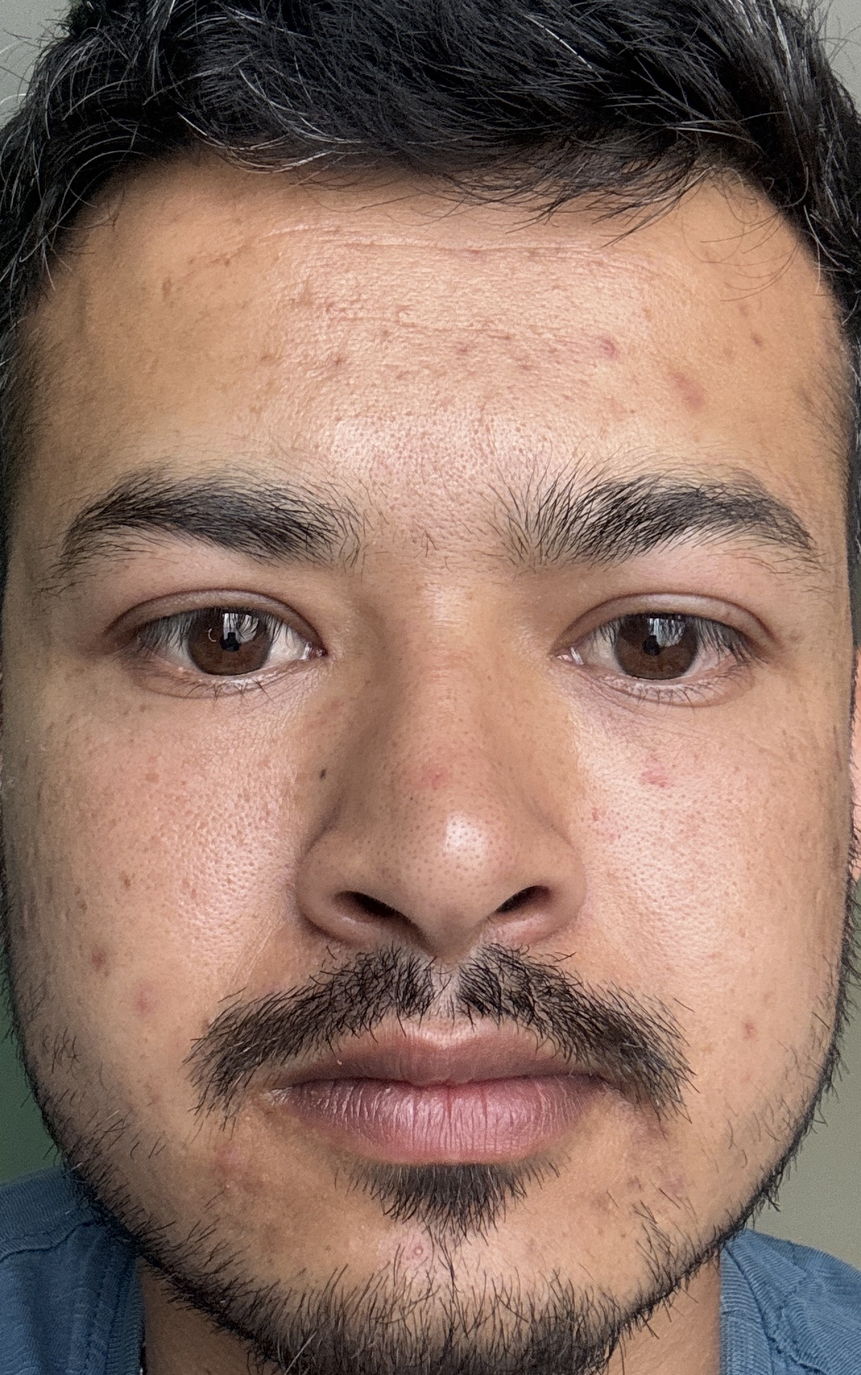closed_comedone: (364, 307, 502, 394)
papule: (243, 752, 334, 804), (711, 1006, 797, 1056), (618, 759, 684, 816), (121, 970, 182, 1027), (665, 362, 711, 435), (593, 326, 643, 380)
